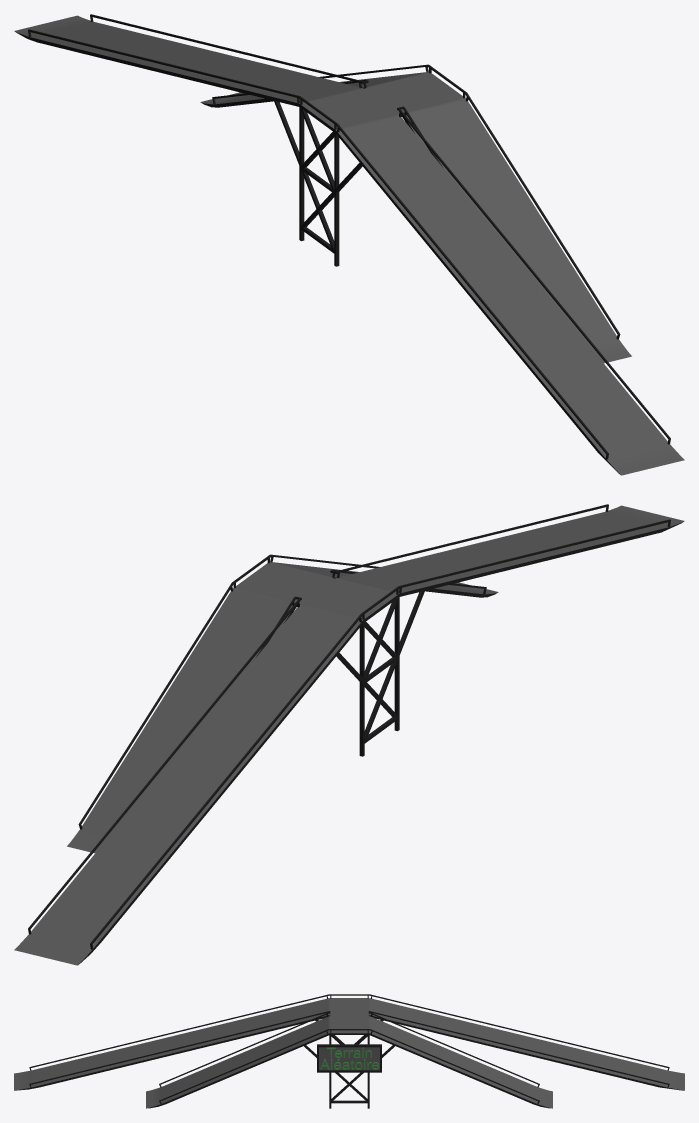
The model's file is Nouveau Pont ouvert v6.fbx.
The picture shows the model from 3 angles, top to bottom: view 1: azimuth 30°, elevation 25°; view 2: azimuth 150°, elevation 25°; view 3: azimuth 270°, elevation 25°; orthographic projection. The views are drawn at different scales.
Parts seen in each view (by area): view 1: Body2; view 2: Body2; view 3: Body2.
Part boxes in pixels (box(x1,y1,x2,y2)): Body2: box(14, 14, 684, 475); Body2: box(14, 504, 684, 965); Body2: box(14, 994, 684, 1108).
Bounding box in the file's own units: 42.5 × 43 × 331.
